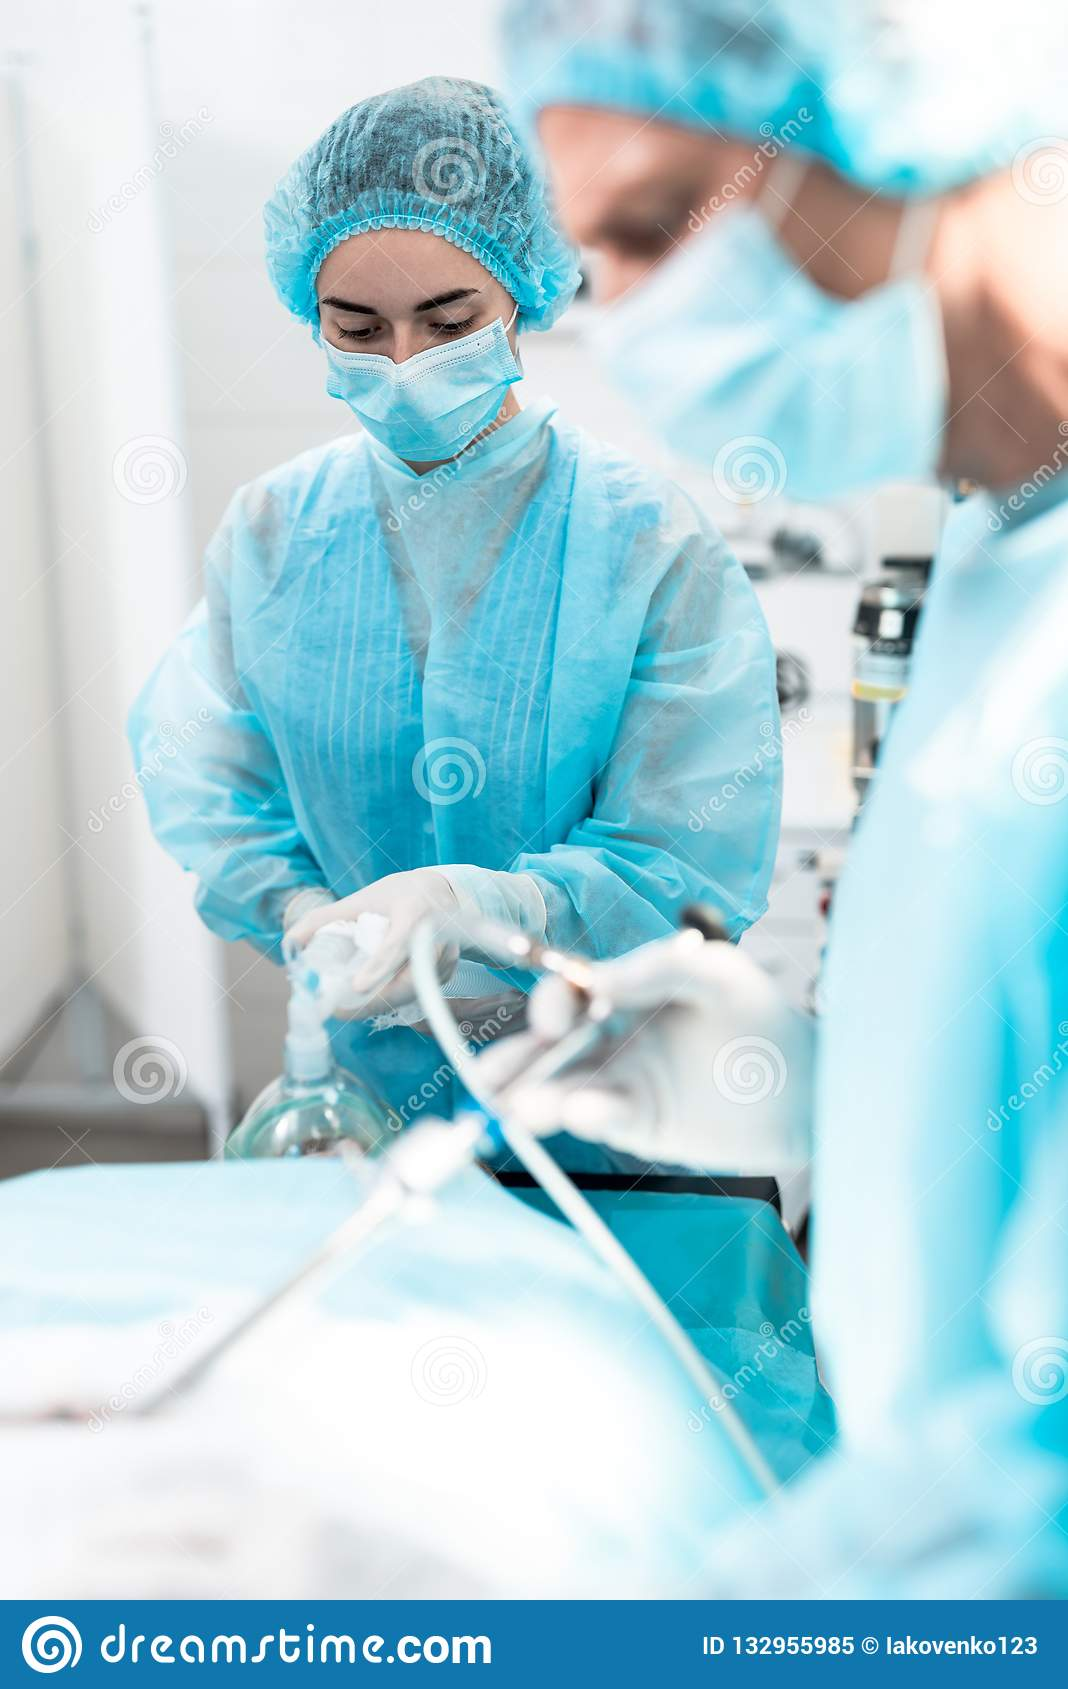mask: (317, 335, 539, 483)
